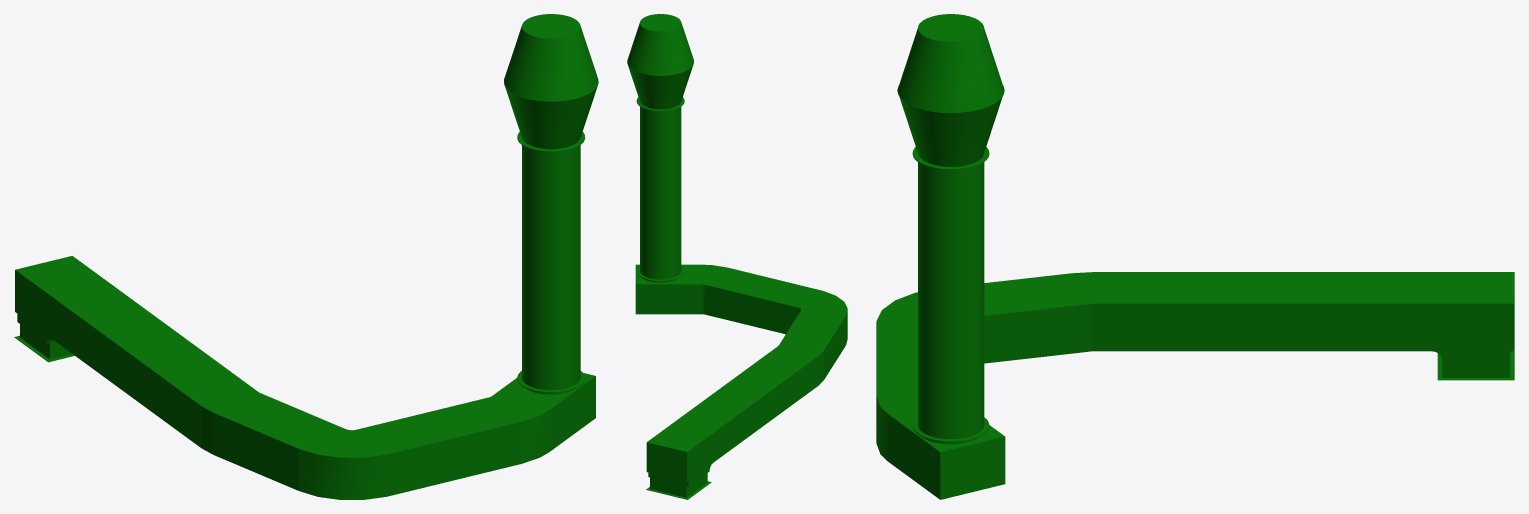
The model's file is Image-1711348127640-2280725688608_77-GA54-DUCT-OUTLET.fbx.
3 views of the same model, side by side, from view 1: azimuth 30°, elevation 25°; view 2: azimuth 150°, elevation 25°; view 3: azimuth 270°, elevation 25° (orthographic). The views are drawn at different scales.
Visible parts, largest first — view 1: BOX 4 of SUBEQUIPMENT /77-GA54-DUCT-OUTLET/DUCT, CYLINDER 1 of SUBEQUIPMENT /77-GA54-DUCT-OUTLET/DUCT, BOX 6 of SUBEQUIPMENT /77-GA54-DUCT-OUTLET/DUCT, BOX 5 of SUBEQUIPMENT /77-GA54-DUCT-OUTLET/DUCT, CONE 2 of SUBEQUIPMENT /77-GA54-DUCT-OUTLET/DUCT, RTORUS 3 of SUBEQUIPMENT /77-GA54-DUCT-OUTLET/DUCT, CONE 1 of SUBEQUIPMENT /77-GA54-DUCT-OUTLET/DUCT, BOX 7 of SUBEQUIPMENT /77-GA54-DUCT-OUTLET/DUCT, RTORUS 4 of SUBEQUIPMENT /77-GA54-DUCT-OUTLET/DUCT, RTORUS 1 of SUBEQUIPMENT /77-GA54-DUCT-OUTLET/DUCT, RTORUS 2 of SUBEQUIPMENT /77-GA54-DUCT-OUTLET/DUCT, BOX 2 of SUBEQUIPMENT /77-GA54-DUCT-OUTLET/DUCT; view 2: BOX 4 of SUBEQUIPMENT /77-GA54-DUCT-OUTLET/DUCT, CYLINDER 1 of SUBEQUIPMENT /77-GA54-DUCT-OUTLET/DUCT, BOX 6 of SUBEQUIPMENT /77-GA54-DUCT-OUTLET/DUCT, CONE 2 of SUBEQUIPMENT /77-GA54-DUCT-OUTLET/DUCT, BOX 7 of SUBEQUIPMENT /77-GA54-DUCT-OUTLET/DUCT, BOX 5 of SUBEQUIPMENT /77-GA54-DUCT-OUTLET/DUCT, CONE 1 of SUBEQUIPMENT /77-GA54-DUCT-OUTLET/DUCT, RTORUS 3 of SUBEQUIPMENT /77-GA54-DUCT-OUTLET/DUCT, BOX 2 of SUBEQUIPMENT /77-GA54-DUCT-OUTLET/DUCT, RTORUS 4 of SUBEQUIPMENT /77-GA54-DUCT-OUTLET/DUCT, RTORUS 2 of SUBEQUIPMENT /77-GA54-DUCT-OUTLET/DUCT, BOX 3 of SUBEQUIPMENT /77-GA54-DUCT-OUTLET/DUCT (+1 smaller); view 3: BOX 4 of SUBEQUIPMENT /77-GA54-DUCT-OUTLET/DUCT, CYLINDER 1 of SUBEQUIPMENT /77-GA54-DUCT-OUTLET/DUCT, BOX 5 of SUBEQUIPMENT /77-GA54-DUCT-OUTLET/DUCT, CONE 2 of SUBEQUIPMENT /77-GA54-DUCT-OUTLET/DUCT, BOX 7 of SUBEQUIPMENT /77-GA54-DUCT-OUTLET/DUCT, CONE 1 of SUBEQUIPMENT /77-GA54-DUCT-OUTLET/DUCT, BOX 6 of SUBEQUIPMENT /77-GA54-DUCT-OUTLET/DUCT, RTORUS 1 of SUBEQUIPMENT /77-GA54-DUCT-OUTLET/DUCT, BOX 2 of SUBEQUIPMENT /77-GA54-DUCT-OUTLET/DUCT, RTORUS 4 of SUBEQUIPMENT /77-GA54-DUCT-OUTLET/DUCT, RTORUS 3 of SUBEQUIPMENT /77-GA54-DUCT-OUTLET/DUCT.
Boxes of the visible parts, box(x1,y1,x2,y2) form: BOX 4 of SUBEQUIPMENT /77-GA54-DUCT-OUTLET/DUCT: box(15, 256, 258, 447); CYLINDER 1 of SUBEQUIPMENT /77-GA54-DUCT-OUTLET/DUCT: box(522, 145, 580, 394); BOX 6 of SUBEQUIPMENT /77-GA54-DUCT-OUTLET/DUCT: box(357, 397, 521, 495); BOX 5 of SUBEQUIPMENT /77-GA54-DUCT-OUTLET/DUCT: box(213, 393, 345, 490); CONE 2 of SUBEQUIPMENT /77-GA54-DUCT-OUTLET/DUCT: box(504, 14, 598, 101); RTORUS 3 of SUBEQUIPMENT /77-GA54-DUCT-OUTLET/DUCT: box(299, 429, 389, 499); CONE 1 of SUBEQUIPMENT /77-GA54-DUCT-OUTLET/DUCT: box(504, 79, 598, 149); BOX 7 of SUBEQUIPMENT /77-GA54-DUCT-OUTLET/DUCT: box(492, 373, 595, 451); RTORUS 4 of SUBEQUIPMENT /77-GA54-DUCT-OUTLET/DUCT: box(489, 396, 549, 463); RTORUS 1 of SUBEQUIPMENT /77-GA54-DUCT-OUTLET/DUCT: box(23, 293, 55, 343); RTORUS 2 of SUBEQUIPMENT /77-GA54-DUCT-OUTLET/DUCT: box(201, 392, 259, 454); BOX 2 of SUBEQUIPMENT /77-GA54-DUCT-OUTLET/DUCT: box(20, 324, 71, 359); BOX 4 of SUBEQUIPMENT /77-GA54-DUCT-OUTLET/DUCT: box(646, 346, 818, 481); CYLINDER 1 of SUBEQUIPMENT /77-GA54-DUCT-OUTLET/DUCT: box(640, 106, 681, 282); BOX 6 of SUBEQUIPMENT /77-GA54-DUCT-OUTLET/DUCT: box(704, 267, 820, 334); CONE 2 of SUBEQUIPMENT /77-GA54-DUCT-OUTLET/DUCT: box(627, 14, 693, 75); BOX 7 of SUBEQUIPMENT /77-GA54-DUCT-OUTLET/DUCT: box(635, 264, 701, 314); BOX 5 of SUBEQUIPMENT /77-GA54-DUCT-OUTLET/DUCT: box(779, 310, 845, 379); CONE 1 of SUBEQUIPMENT /77-GA54-DUCT-OUTLET/DUCT: box(627, 60, 693, 109); RTORUS 3 of SUBEQUIPMENT /77-GA54-DUCT-OUTLET/DUCT: box(798, 290, 847, 344); BOX 2 of SUBEQUIPMENT /77-GA54-DUCT-OUTLET/DUCT: box(650, 473, 707, 497); RTORUS 4 of SUBEQUIPMENT /77-GA54-DUCT-OUTLET/DUCT: box(701, 264, 727, 314); RTORUS 2 of SUBEQUIPMENT /77-GA54-DUCT-OUTLET/DUCT: box(778, 345, 823, 385); BOX 3 of SUBEQUIPMENT /77-GA54-DUCT-OUTLET/DUCT: box(648, 466, 709, 486); BOX 4 of SUBEQUIPMENT /77-GA54-DUCT-OUTLET/DUCT: box(1093, 272, 1514, 351); CYLINDER 1 of SUBEQUIPMENT /77-GA54-DUCT-OUTLET/DUCT: box(918, 162, 984, 444); BOX 5 of SUBEQUIPMENT /77-GA54-DUCT-OUTLET/DUCT: box(984, 273, 1090, 363); CONE 2 of SUBEQUIPMENT /77-GA54-DUCT-OUTLET/DUCT: box(897, 14, 1004, 113); BOX 7 of SUBEQUIPMENT /77-GA54-DUCT-OUTLET/DUCT: box(887, 406, 1005, 499); CONE 1 of SUBEQUIPMENT /77-GA54-DUCT-OUTLET/DUCT: box(897, 85, 1004, 166); BOX 6 of SUBEQUIPMENT /77-GA54-DUCT-OUTLET/DUCT: box(876, 323, 917, 395); RTORUS 1 of SUBEQUIPMENT /77-GA54-DUCT-OUTLET/DUCT: box(1432, 303, 1494, 360); BOX 2 of SUBEQUIPMENT /77-GA54-DUCT-OUTLET/DUCT: box(1442, 361, 1509, 377); RTORUS 4 of SUBEQUIPMENT /77-GA54-DUCT-OUTLET/DUCT: box(876, 396, 917, 460); RTORUS 3 of SUBEQUIPMENT /77-GA54-DUCT-OUTLET/DUCT: box(876, 292, 917, 322).
Size of the model in its own units: 4.07 by 6.06 by 5.01.
